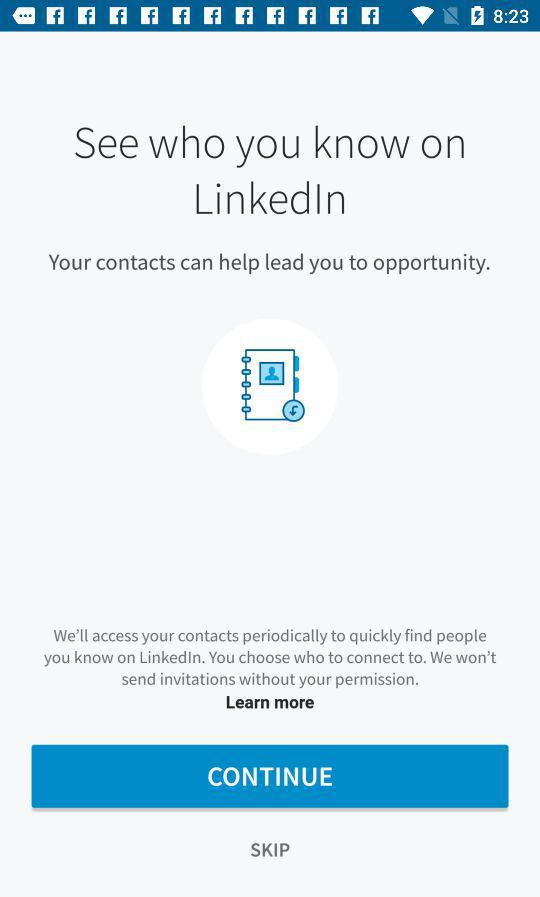Image: (202, 318, 339, 456)
Text: (75, 125, 465, 216), (43, 629, 497, 689), (49, 253, 490, 276), (226, 696, 315, 710), (251, 843, 291, 858)
TextButton: (32, 744, 509, 809)
UpperTaskBar: (1, 1, 540, 33)
